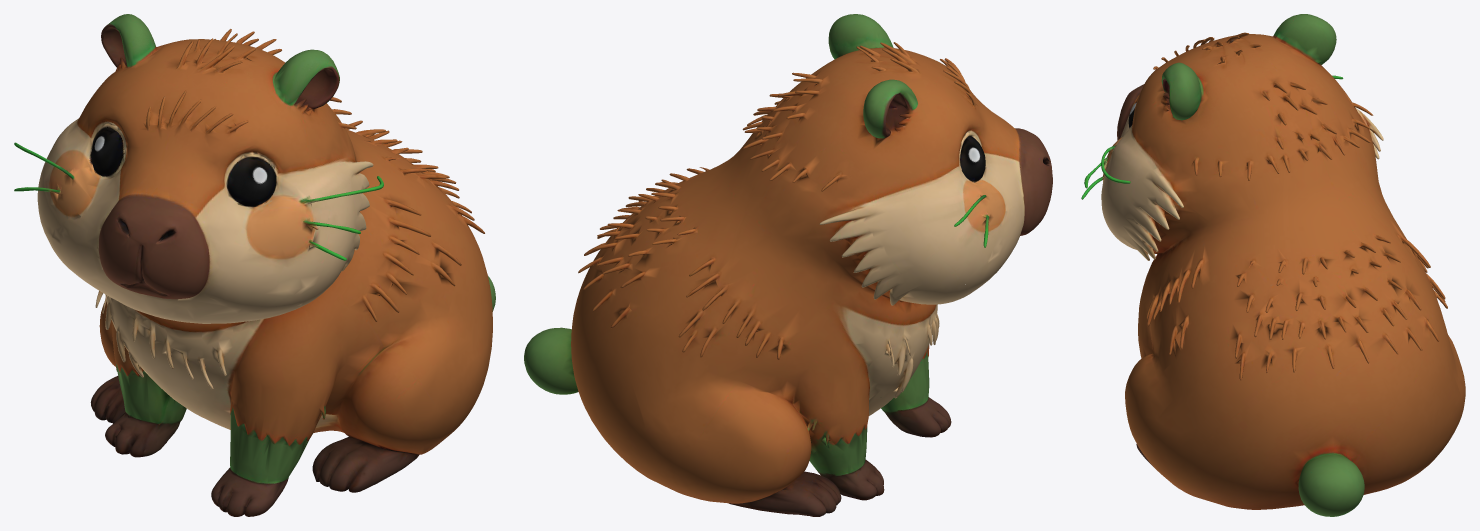
The picture shows the model from 3 angles, left to right: view 1: azimuth 30°, elevation 25°; view 2: azimuth 150°, elevation 25°; view 3: azimuth 270°, elevation 25°; orthographic projection. The views are drawn at different scales.
Visible parts, largest first — view 1: tripo_node_ed96a511-4b13-4076-b83a-ebda3cca3e9c_AnimatedRoot; view 2: tripo_node_ed96a511-4b13-4076-b83a-ebda3cca3e9c_AnimatedRoot; view 3: tripo_node_ed96a511-4b13-4076-b83a-ebda3cca3e9c_AnimatedRoot.
Boxes of the visible parts, x1,y1,x2,y2 form: tripo_node_ed96a511-4b13-4076-b83a-ebda3cca3e9c_AnimatedRoot: [14, 14, 495, 516]; tripo_node_ed96a511-4b13-4076-b83a-ebda3cca3e9c_AnimatedRoot: [524, 14, 1052, 516]; tripo_node_ed96a511-4b13-4076-b83a-ebda3cca3e9c_AnimatedRoot: [1081, 14, 1465, 516].
Bounding box in the file's own units: 0.2873 × 0.25 × 0.2263.
Materials: 1 (1 with a texture image).
